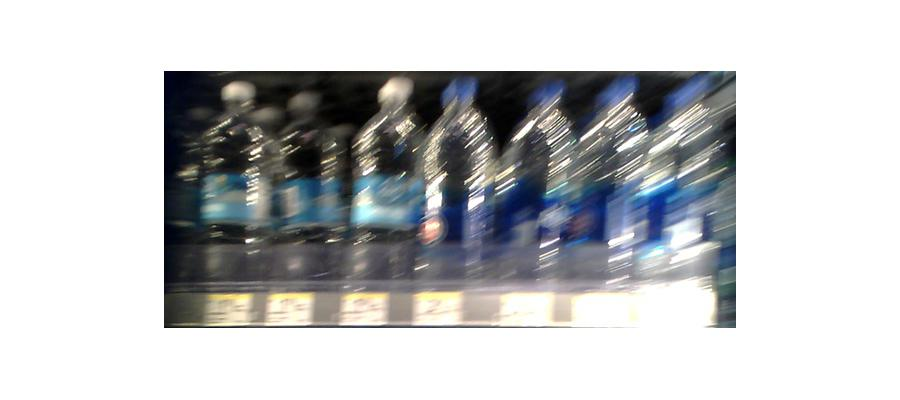bottle: (419, 66, 494, 293), (348, 77, 424, 293), (577, 65, 648, 295), (194, 81, 269, 287), (650, 79, 719, 293), (500, 79, 565, 300), (273, 81, 342, 283)
